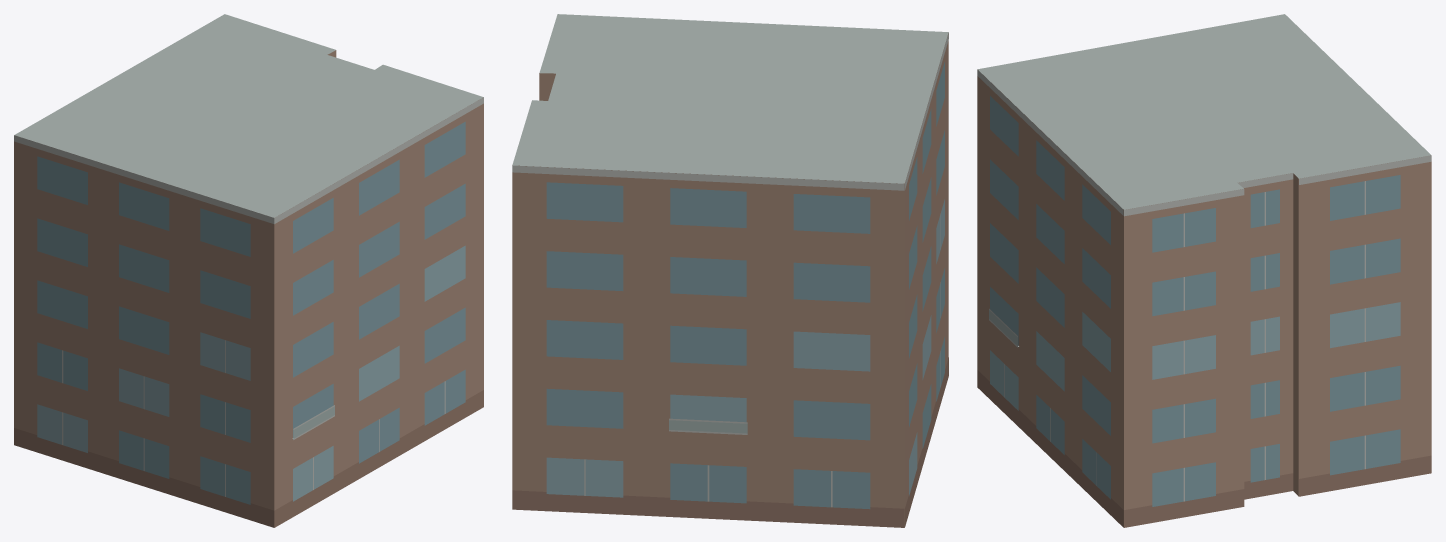
Rendered from survey-upis-32853071.glb.
The picture shows the model from 3 angles, left to right: view 1: azimuth 30°, elevation 25°; view 2: azimuth 150°, elevation 25°; view 3: azimuth 270°, elevation 25°; orthographic projection. The views are drawn at different scales.
Visible parts, largest first — view 1: survey-upis-32853071.tmp; view 2: survey-upis-32853071.tmp; view 3: survey-upis-32853071.tmp.
Part boxes in pixels (x1,y1,x2,y2): survey-upis-32853071.tmp: (14,14,483,527); survey-upis-32853071.tmp: (512,14,948,527); survey-upis-32853071.tmp: (977,14,1431,527).
Bounding box in the file's own units: 15.85 × 11.99 × 15.53.
